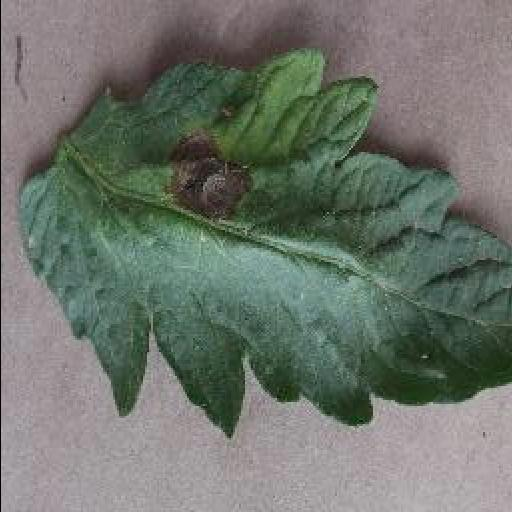disease_tomato: (10, 44, 510, 446)
